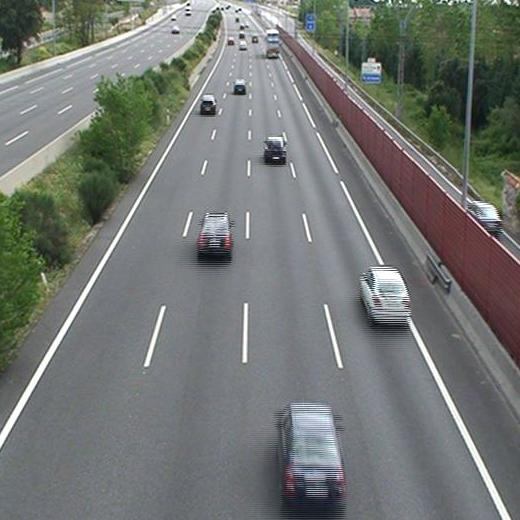car: (280, 405, 345, 498), (361, 268, 408, 324), (199, 214, 232, 253), (264, 137, 285, 159), (199, 95, 216, 112), (234, 79, 245, 92), (239, 40, 247, 50), (226, 37, 234, 45)
truck: (267, 29, 279, 56)
